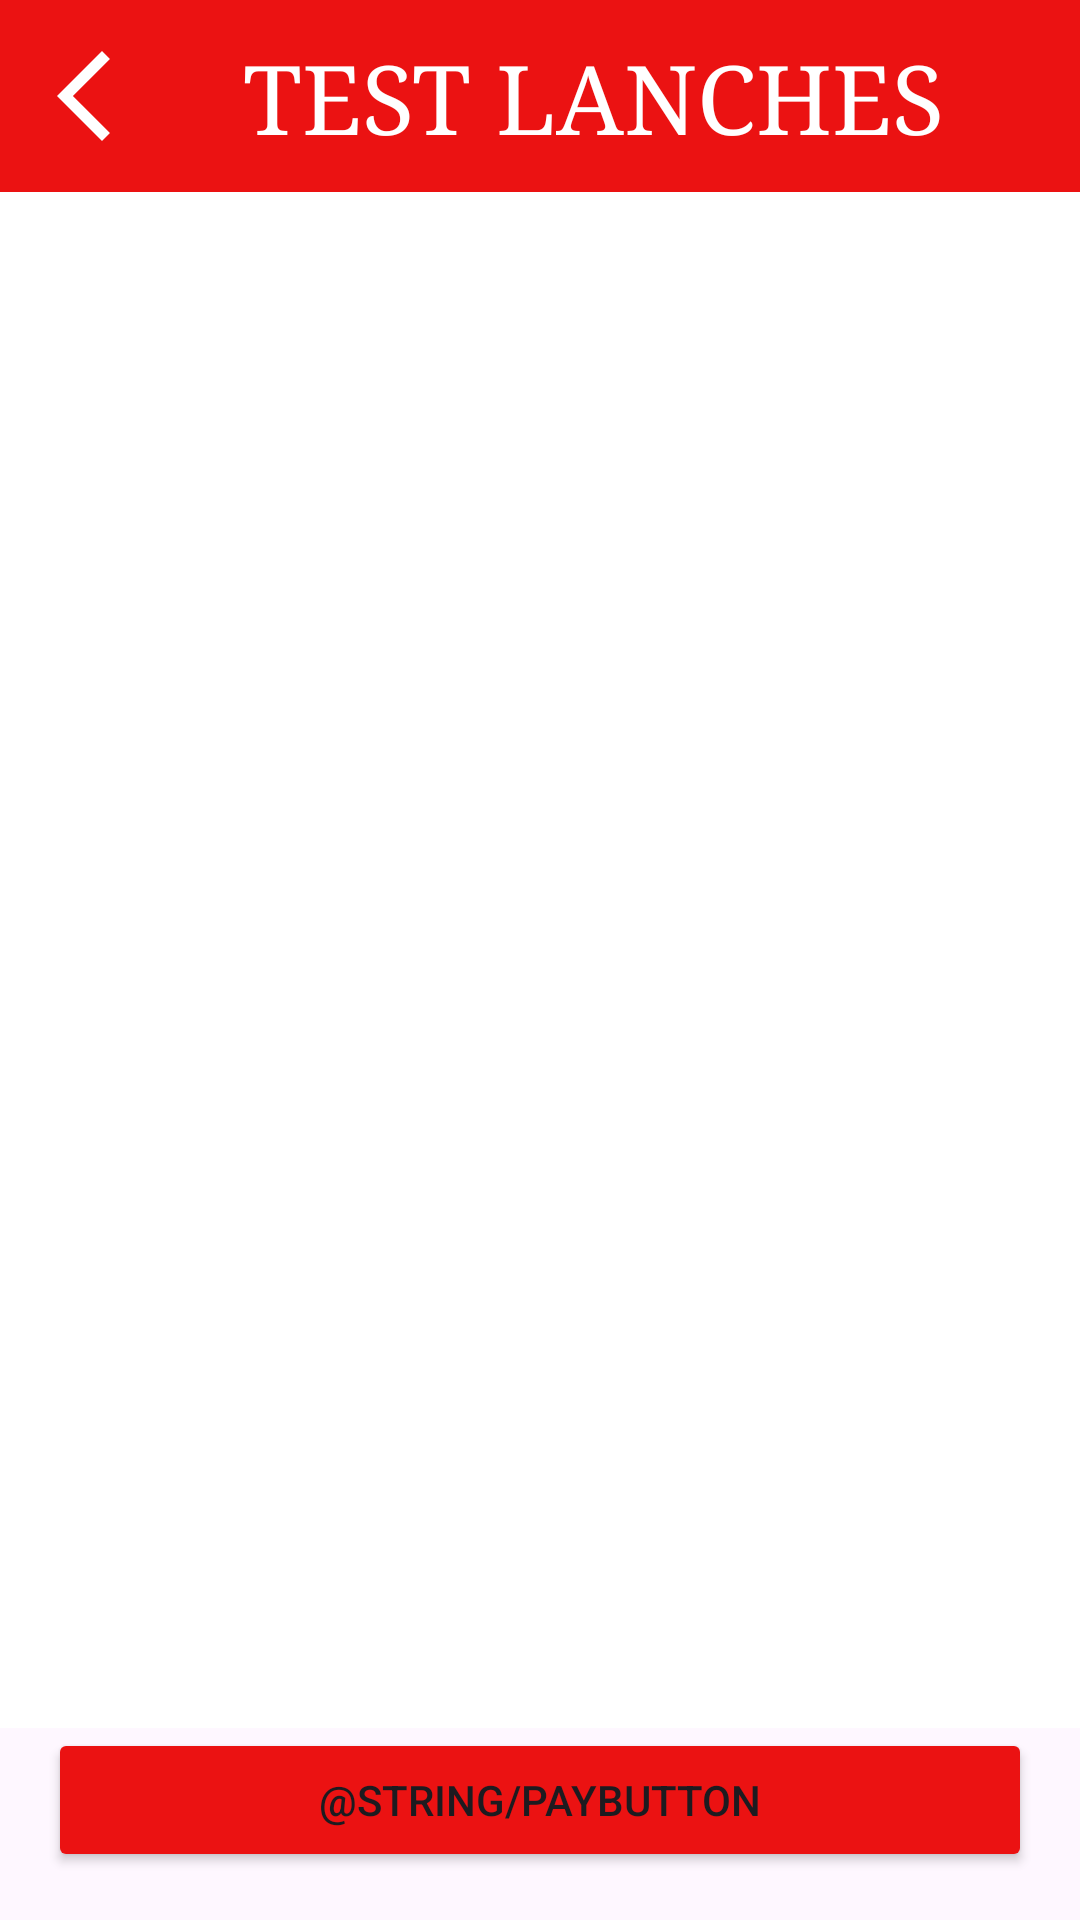

Icon bounding boxes for this 1080×1920 phone screenshot, format (x1, y1, x2, y2):
back: (57, 51, 110, 141)
